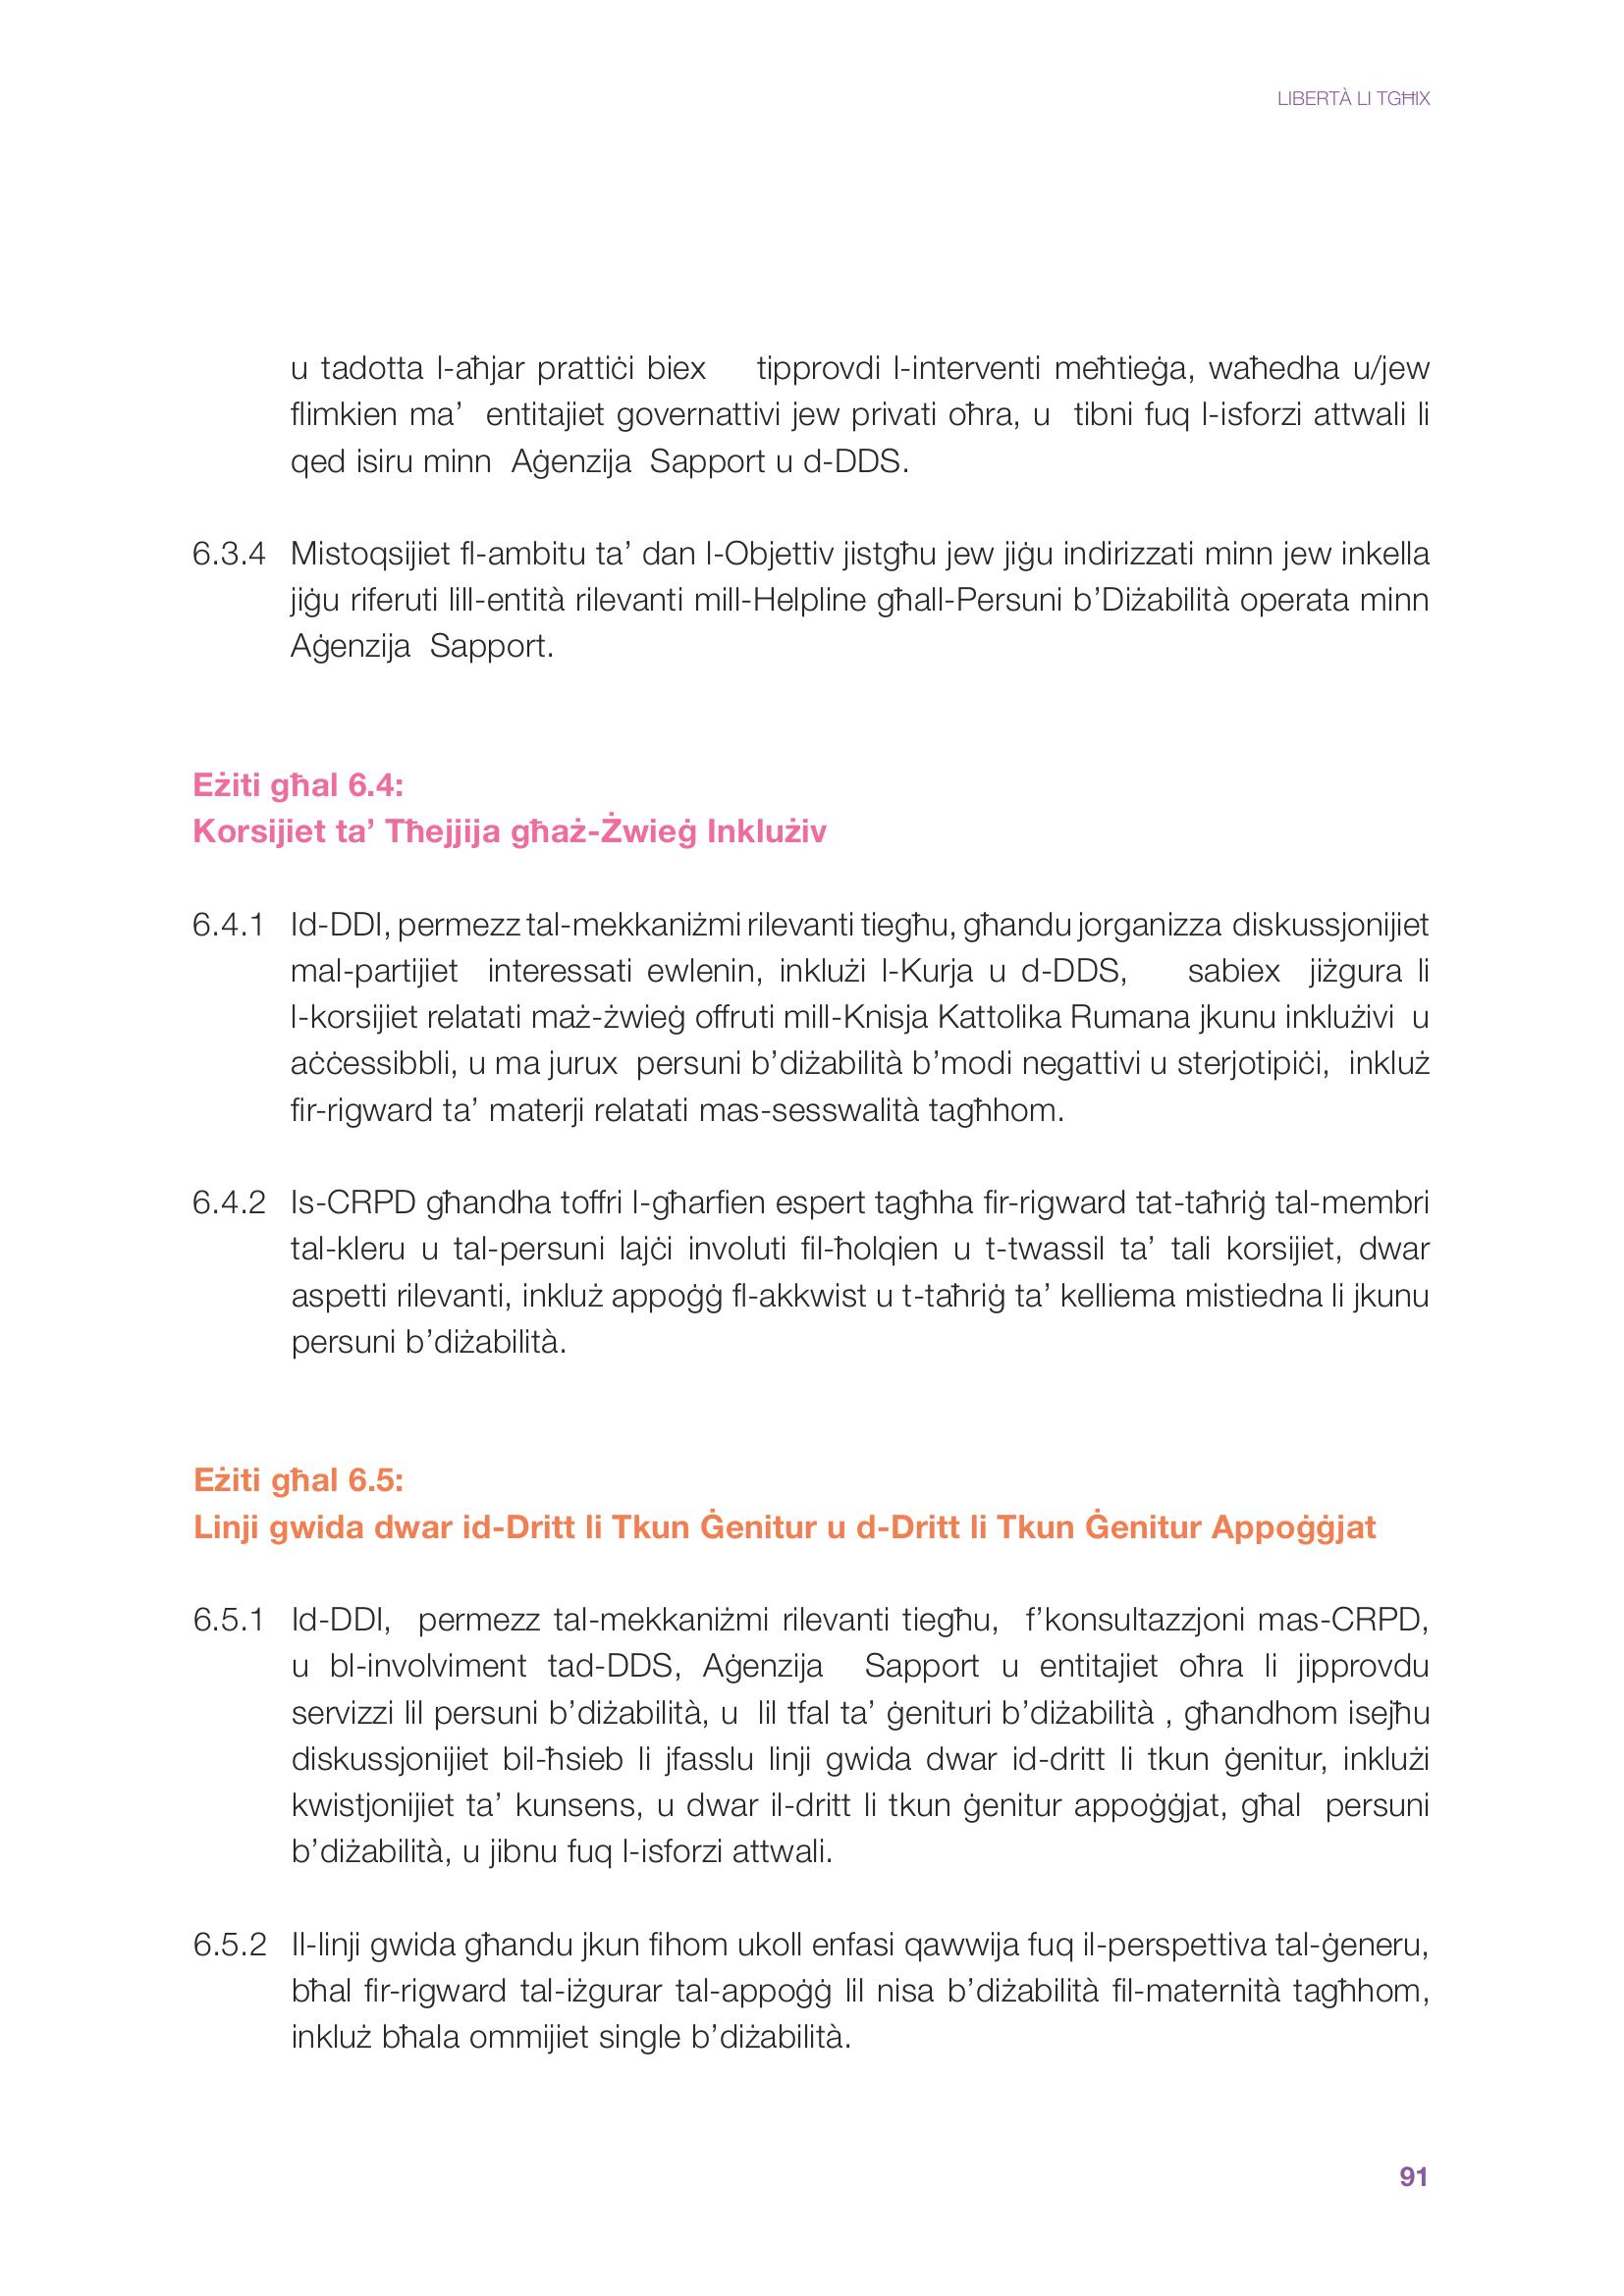text: (165, 314, 1464, 2097)
